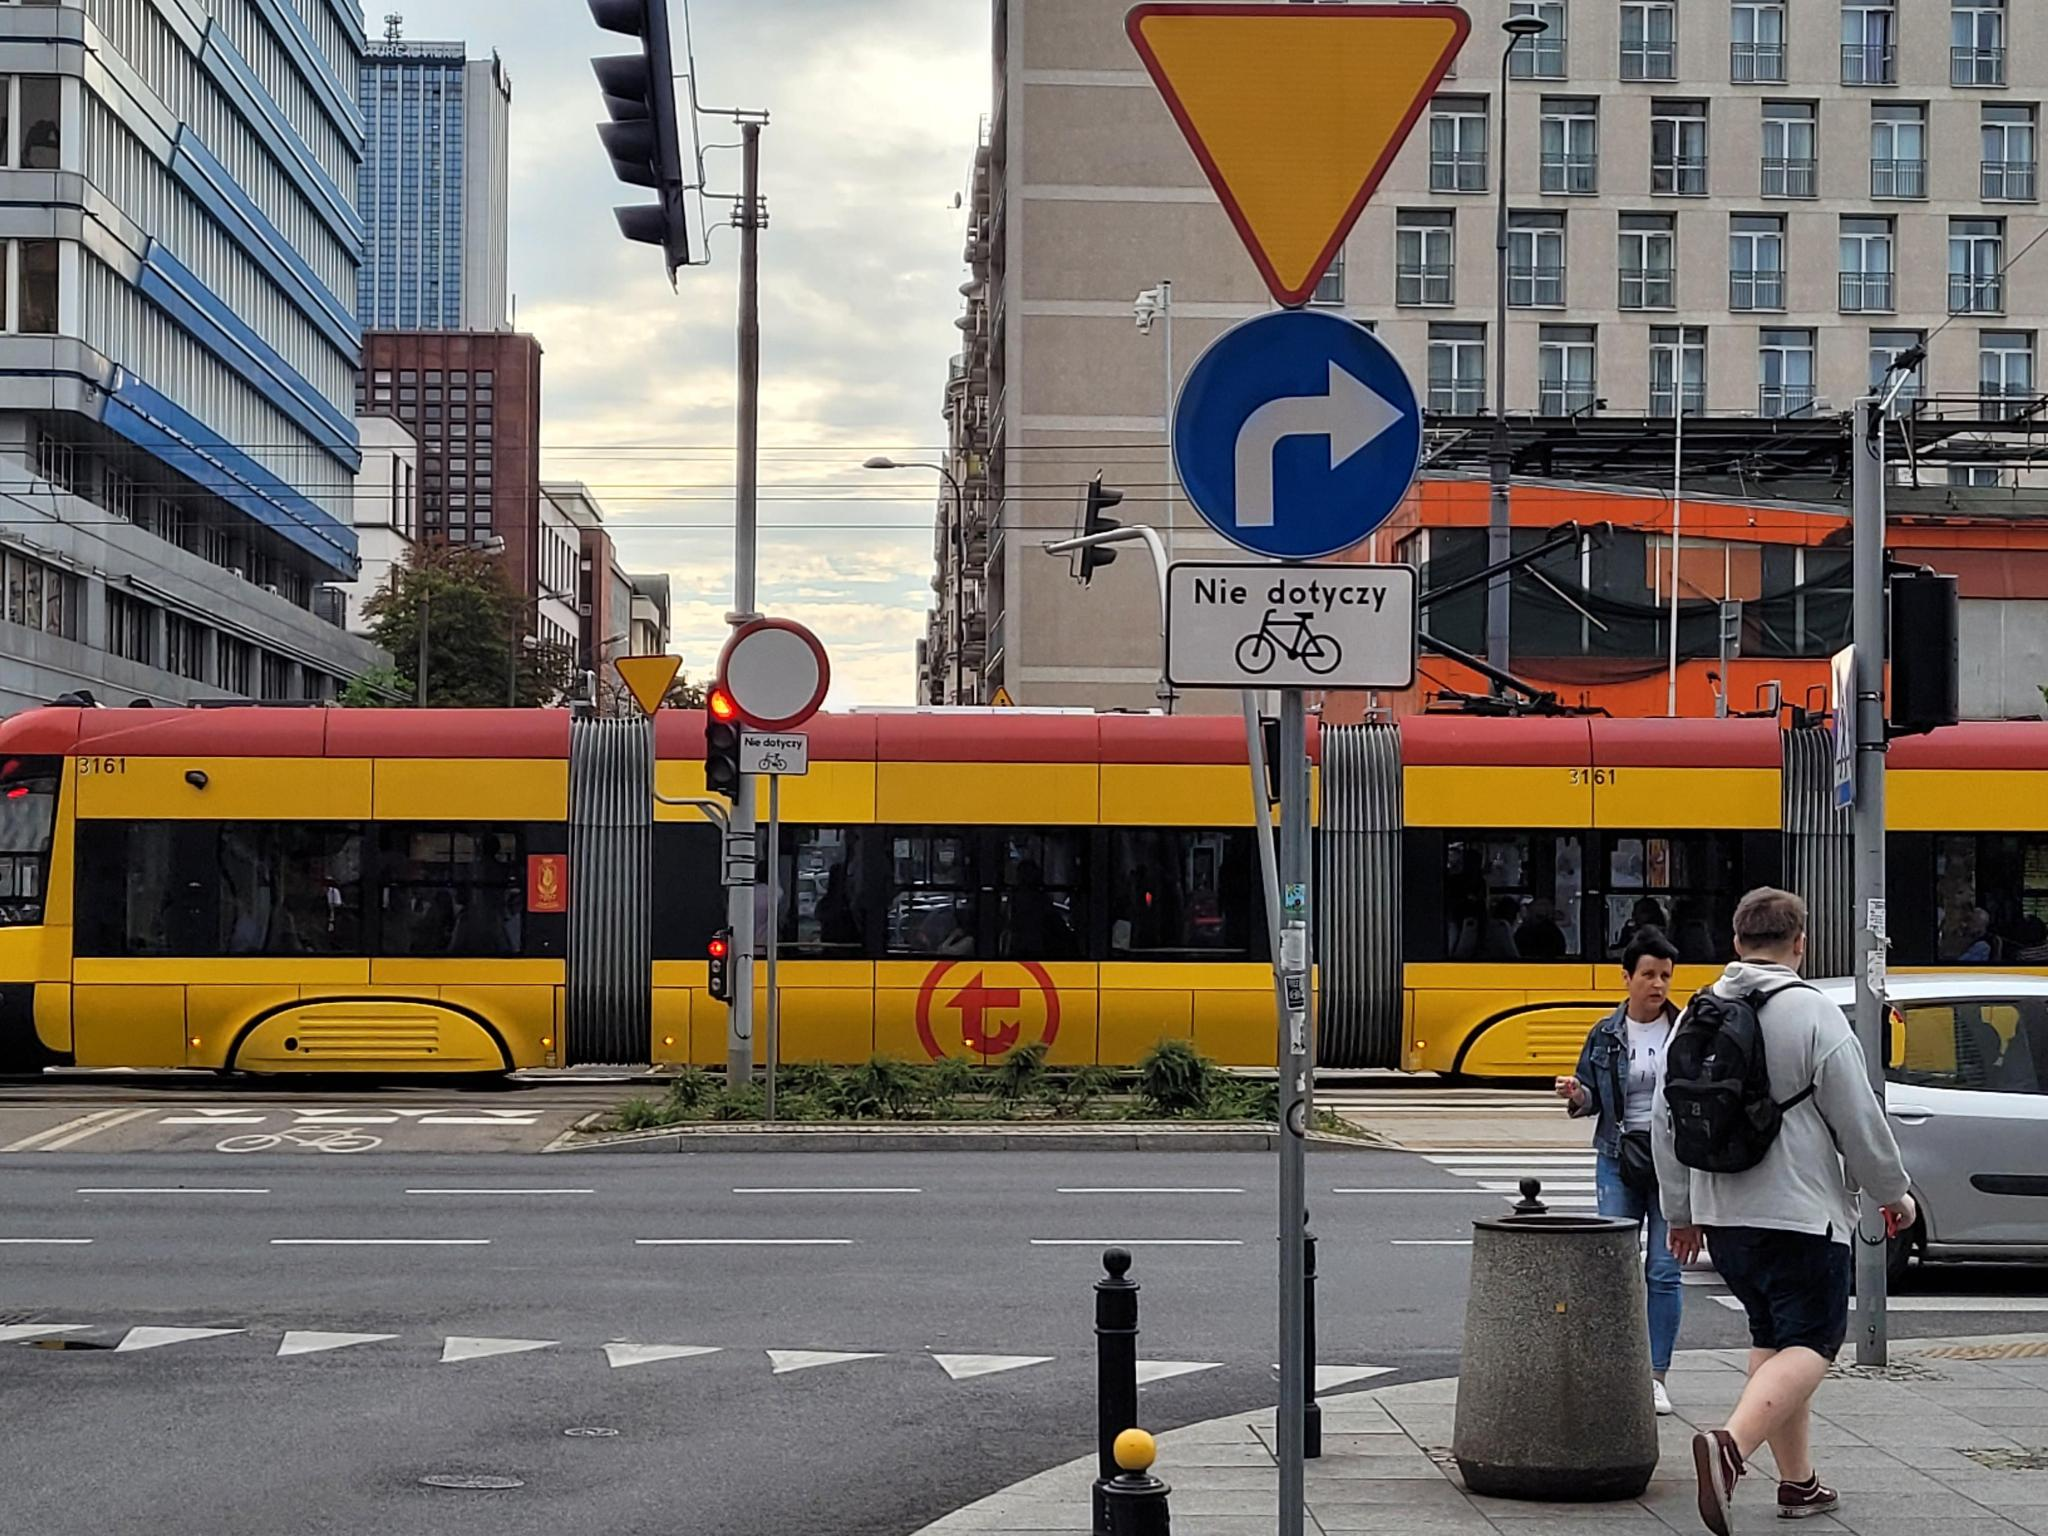information: (1832, 644, 1858, 810)
mandatory: (1169, 308, 1429, 561)
other: (1166, 561, 1414, 684)
prohibitory: (714, 616, 830, 733)
warning: (1119, 3, 1474, 313), (614, 653, 684, 718)
